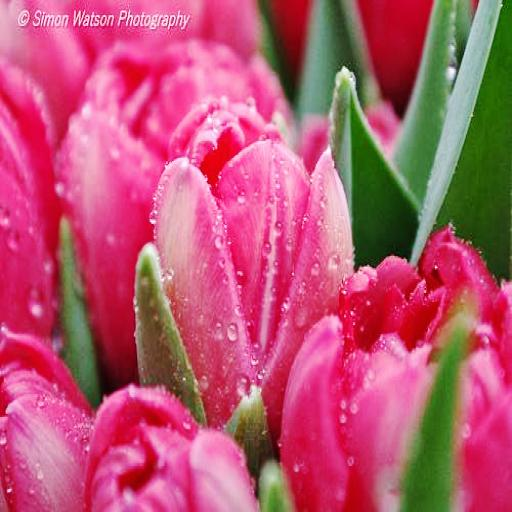tulip: (280, 227, 512, 512), (153, 120, 353, 436), (400, 149, 400, 150)
